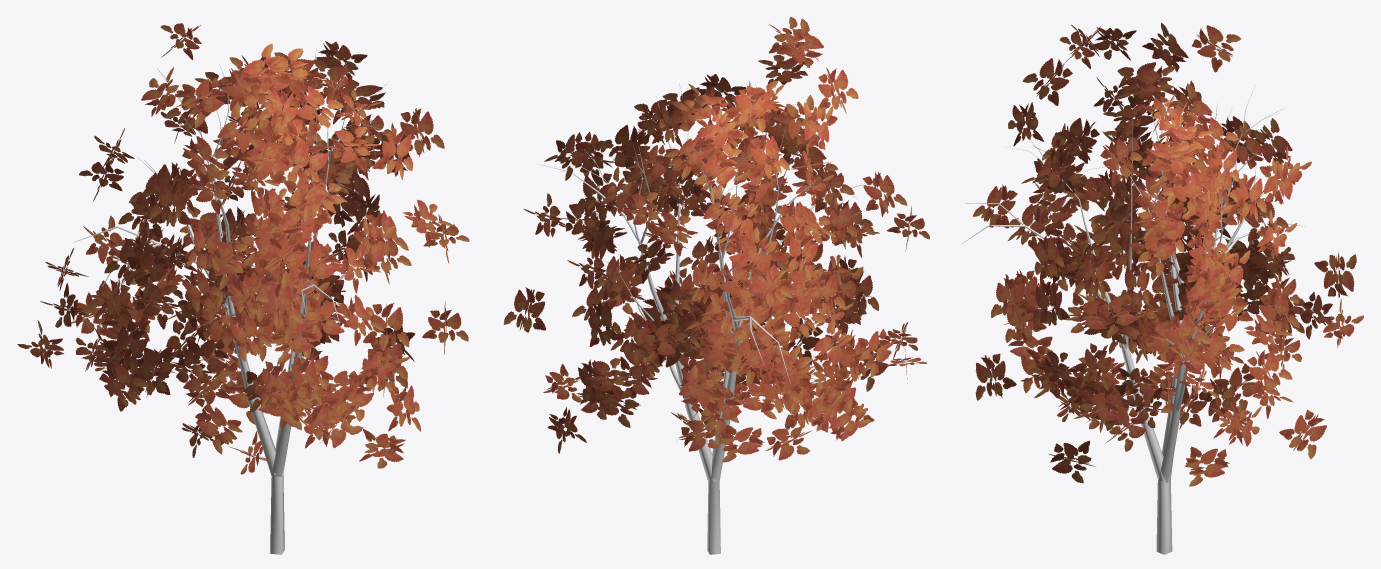
Rendered from tree03.fbx.
The picture shows the model from 3 angles, left to right: view 1: azimuth 30°, elevation 25°; view 2: azimuth 150°, elevation 25°; view 3: azimuth 270°, elevation 25°; orthographic projection. The views are drawn at different scales.
Visible parts, largest first — view 1: foliage02, trunk03; view 2: foliage02, trunk03; view 3: foliage02, trunk03.
Boxes of the visible parts, <box> form: foliage02: <box>17,23,469,474</box>; trunk03: <box>73,48,396,554</box>; foliage02: <box>503,16,929,462</box>; trunk03: <box>537,76,872,554</box>; foliage02: <box>972,22,1363,486</box>; trunk03: <box>961,76,1304,554</box>.
Size of the model in its own units: 5.27 by 7.15 by 5.16.
